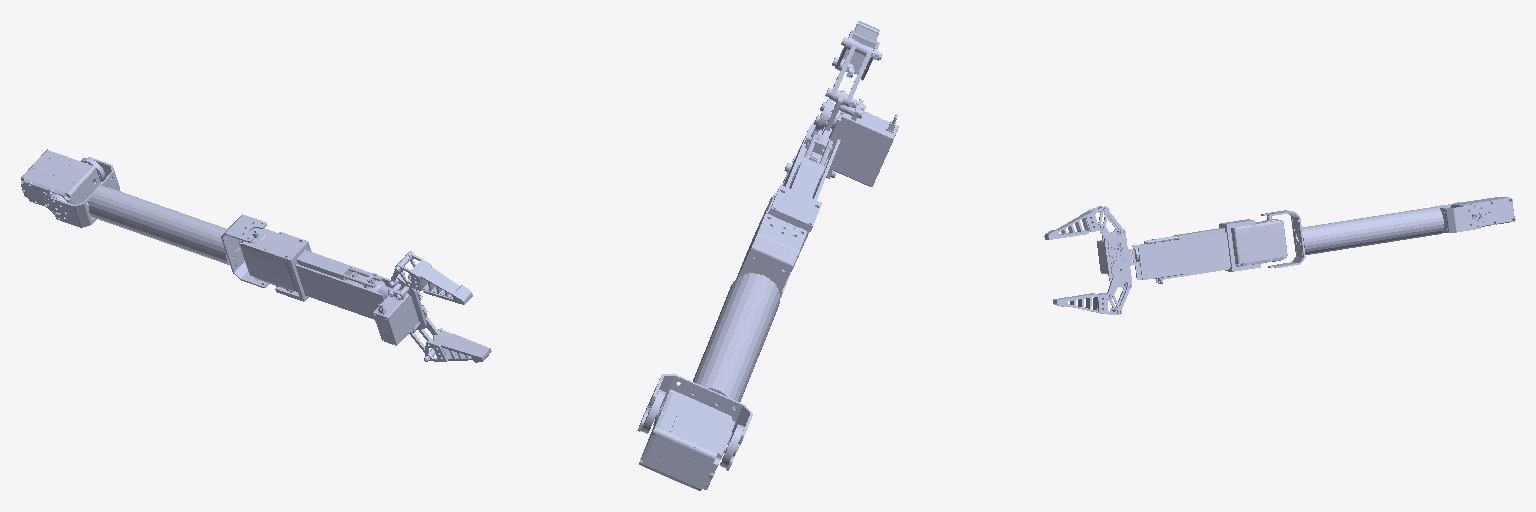
robot.urdf — Robot_arm_limb_2_generate:
<?xml version="1.0" encoding="utf-8"?>
<!-- This URDF was automatically created by SolidWorks to URDF Exporter! Originally created by Stephen Brawner (brawner@gmail.com) 
     Commit Version: 1.6.0-4-g7f85cfe  Build Version: 1.6.7995.38578
     For more information, please see http://wiki.ros.org/sw_urdf_exporter -->
<robot
  name="Robot_arm_limb_2_generate">
  <link
    name="base_link">
    <inertial>
      <origin
        xyz="-0.00804760282804601 -0.0372453338284626 -0.0211255154858374"
        rpy="0 0 0" />
      <mass
        value="0.0499805196842013" />
      <inertia
        ixx="2.04993457018384E-05"
        ixy="5.50309939338631E-06"
        ixz="1.01594909544029E-06"
        iyy="7.73935000638258E-06"
        iyz="3.78729602312972E-07"
        izz="2.02726777102863E-05" />
    </inertial>
    <visual>
      <origin
        xyz="0 0 0"
        rpy="0 0 0" />
      <geometry>
        <mesh
          filename="package://Robot_arm_limb_2_generate/meshes/base_link.STL" />
      </geometry>
      <material
        name="">
        <color
          rgba="0.792156862745098 0.819607843137255 0.933333333333333 1" />
      </material>
    </visual>
    <collision>
      <origin
        xyz="0 0 0"
        rpy="0 0 0" />
      <geometry>
        <mesh
          filename="package://Robot_arm_limb_2_generate/meshes/base_link.STL" />
      </geometry>
    </collision>
  </link>
  <link
    name="leavearm_Link">
    <inertial>
      <origin
        xyz="0.137018788242115 -0.00521713060857206 -0.000272514594205976"
        rpy="0 0 0" />
      <mass
        value="0.177706414364813" />
      <inertia
        ixx="3.3738380515548E-05"
        ixy="-1.40662735639552E-18"
        ixz="4.29312291558817E-18"
        iyy="0.000445741438528138"
        iyz="-2.52321912724512E-20"
        izz="0.000445391770420042" />
    </inertial>
    <visual>
      <origin
        xyz="0 0 0"
        rpy="0 0 0" />
      <geometry>
        <mesh
          filename="package://Robot_arm_limb_2_generate/meshes/leavearm_Link.STL" />
      </geometry>
      <material
        name="">
        <color
          rgba="0.792156862745098 0.819607843137255 0.933333333333333 1" />
      </material>
    </visual>
    <collision>
      <origin
        xyz="0 0 0"
        rpy="0 0 0" />
      <geometry>
        <mesh
          filename="package://Robot_arm_limb_2_generate/meshes/leavearm_Link.STL" />
      </geometry>
    </collision>
  </link>
  <joint
    name="leavearm_joint"
    type="revolute">
    <origin
      xyz="-0.010446 -0.042184 -0.023711"
      rpy="-2.7611 0 -1.2152" />
    <parent
      link="base_link" />
    <child
      link="leavearm_Link" />
    <axis
      xyz="0 -1 0" />
    <limit
      lower="0"
      upper="3.14"
      effort="0"
      velocity="0" />
  </joint>
  <link
    name="littlearm_Link">
    <inertial>
      <origin
        xyz="-0.0531666461045053 -0.00478837402356757 -0.00120716740999737"
        rpy="0 0 0" />
      <mass
        value="0.160992883067043" />
      <inertia
        ixx="3.67851300559748E-05"
        ixy="1.30000998079465E-06"
        ixz="1.11484741723895E-07"
        iyy="0.000117927502300699"
        iyz="-6.18832259357421E-08"
        izz="0.000135567123361309" />
    </inertial>
    <visual>
      <origin
        xyz="0 0 0"
        rpy="0 0 0" />
      <geometry>
        <mesh
          filename="package://Robot_arm_limb_2_generate/meshes/littlearm_Link.STL" />
      </geometry>
      <material
        name="">
        <color
          rgba="0.792156862745098 0.819607843137255 0.933333333333333 1" />
      </material>
    </visual>
    <collision>
      <origin
        xyz="0 0 0"
        rpy="0 0 0" />
      <geometry>
        <mesh
          filename="package://Robot_arm_limb_2_generate/meshes/littlearm_Link.STL" />
      </geometry>
    </collision>
  </link>
  <joint
    name="littlearm_joint"
    type="revolute">
    <origin
      xyz="0.28839 -0.0024349 0.00064713"
      rpy="1.5708 0 -3.1416" />
    <parent
      link="leavearm_Link" />
    <child
      link="littlearm_Link" />
    <axis
      xyz="0 -1 0" />
    <limit
      lower="0"
      upper="3.14"
      effort="0"
      velocity="0" />
  </joint>
  <link
    name="hand_Link">
    <inertial>
      <origin
        xyz="-0.000303154474825106 -0.0356631301276513 0.00832140811909846"
        rpy="0 0 0" />
      <mass
        value="0.0778834156538248" />
      <inertia
        ixx="1.51585190167441E-05"
        ixy="1.18348692827519E-08"
        ixz="-8.68642850319908E-09"
        iyy="1.50557000144223E-05"
        iyz="1.64334486083025E-09"
        izz="2.04933912395624E-05" />
    </inertial>
    <visual>
      <origin
        xyz="0 0 0"
        rpy="0 0 0" />
      <geometry>
        <mesh
          filename="package://Robot_arm_limb_2_generate/meshes/hand_Link.STL" />
      </geometry>
      <material
        name="">
        <color
          rgba="0.792156862745098 0.819607843137255 0.933333333333333 1" />
      </material>
    </visual>
    <collision>
      <origin
        xyz="0 0 0"
        rpy="0 0 0" />
      <geometry>
        <mesh
          filename="package://Robot_arm_limb_2_generate/meshes/hand_Link.STL" />
      </geometry>
    </collision>
  </link>
  <joint
    name="hand_joint"
    type="revolute">
    <origin
      xyz="-0.15276 -0.015713 0.00042938"
      rpy="0 0 -1.5708" />
    <parent
      link="littlearm_Link" />
    <child
      link="hand_Link" />
    <axis
      xyz="0 1 0" />
    <limit
      lower="0"
      upper="3.14"
      effort="0"
      velocity="0" />
  </joint>
</robot>

--- Facts derived from the render (not from the file) ---
Views: 3 orthographic renders of the robot side by side, from view 1: azimuth 30°, elevation 25°; view 2: azimuth 150°, elevation 25°; view 3: azimuth 270°, elevation 25°.
Model Robot_arm_limb_2_generate with 4 links and 3 joints (3 revolute), rooted at base_link, posed all joints at 0.
Visible links, largest first — view 1: leavearm_Link, littlearm_Link, hand_Link, base_link; view 2: leavearm_Link, hand_Link, base_link, littlearm_Link; view 3: littlearm_Link, leavearm_Link, hand_Link, base_link.
Boxes of the visible links, <box> form: leavearm_Link: <box>45,157,268,287</box>; littlearm_Link: <box>239,228,392,321</box>; hand_Link: <box>373,251,491,362</box>; base_link: <box>21,149,100,207</box>; leavearm_Link: <box>637,214,806,470</box>; hand_Link: <box>773,21,898,195</box>; base_link: <box>639,389,735,490</box>; littlearm_Link: <box>736,127,840,297</box>; littlearm_Link: <box>1132,216,1287,283</box>; leavearm_Link: <box>1261,202,1487,267</box>; hand_Link: <box>1044,206,1139,314</box>; base_link: <box>1451,197,1515,226</box>.
Bounding box of the posed robot: 0.2384 × 0.5699 × 0.1313 m (x, y, z).
4 mesh visuals loaded from 4 distinct referenced files (4 binary STL).
